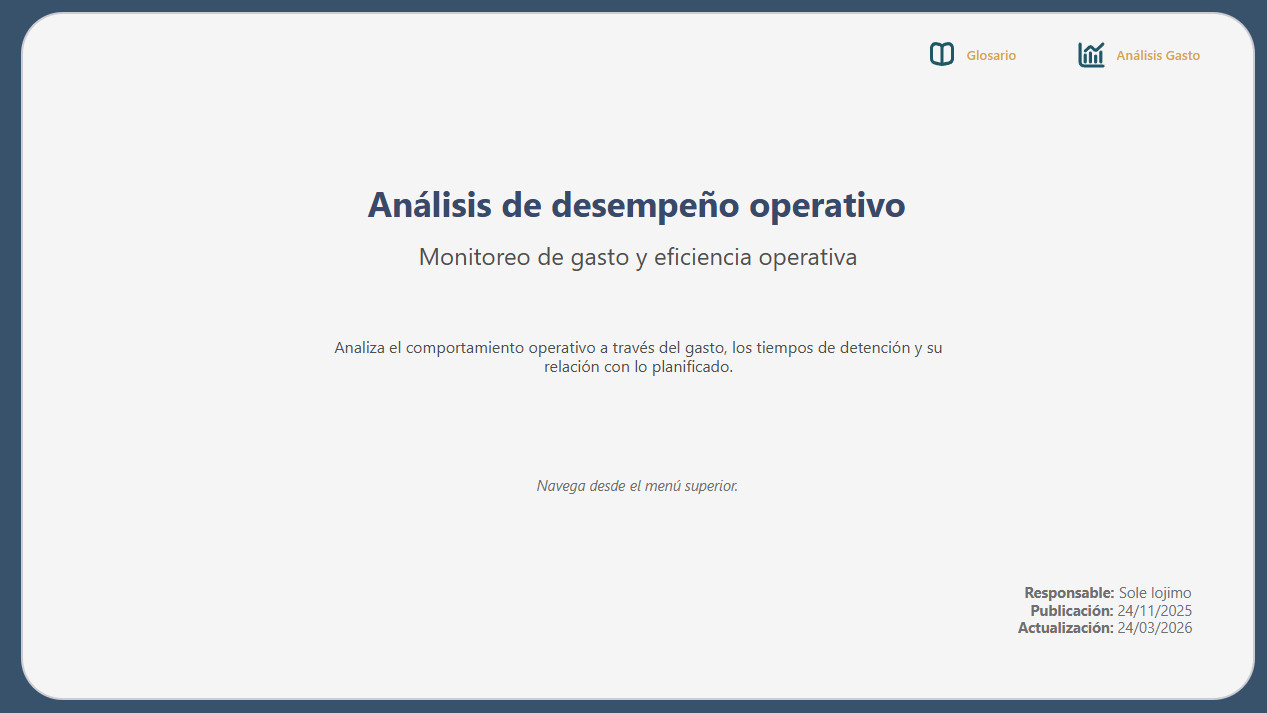

Layout of this report page (visuals, bound fields, positions):
{"tool":"powerbi","page":{"name":"Portada","canvas":[1280,720],"ordinal":0},"visuals":[{"type":"actionButton","box":[928,32,96,48],"z":0},{"type":"actionButton","box":[1088,32,120,48],"z":1}]}

Visuals, with their boxes in screenshot pixels (x1, y1, x2, y2), scaled from the page's 1280x720 canvas onto the 1267x713 screenshot:
actionButton: [left=919, top=32, right=1014, bottom=79]
actionButton: [left=1077, top=32, right=1196, bottom=79]
